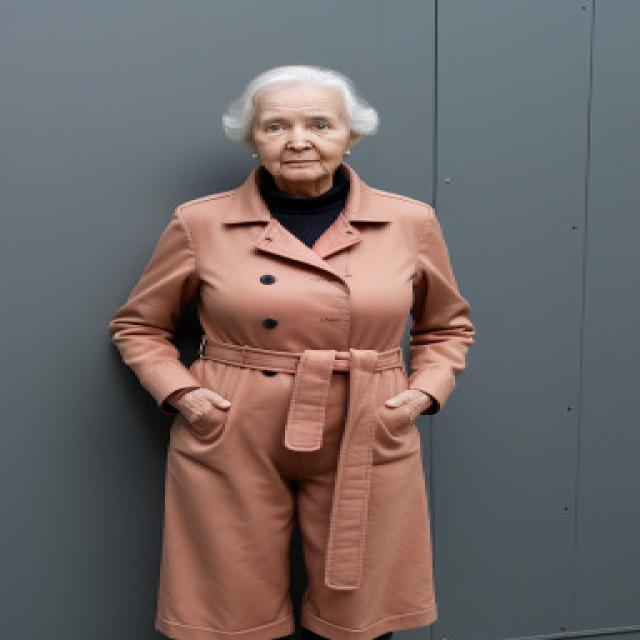Ai human 2: (100, 56, 492, 640)
